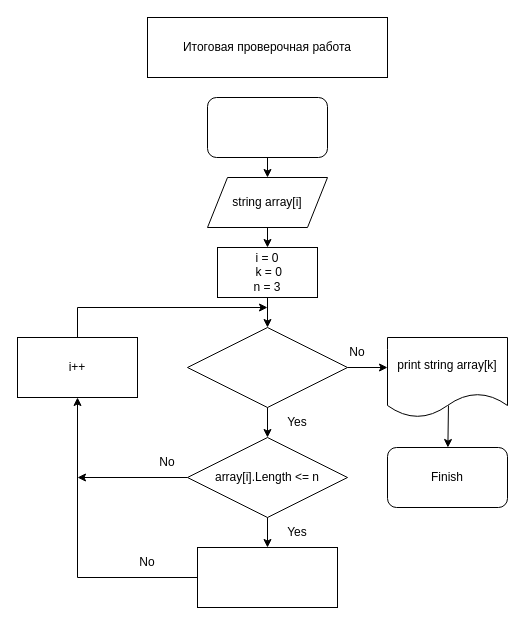
Image size: 525x625. Some labels were removed from this diagram. Here are the shapes that lost their labels. From the top down, the centre of each, then its label:
At [267,127]: "Start".
At [267,367]: "i < array[i].Length".
At [267,577]: "string array[k] = string array[k] + array[i].Length".
